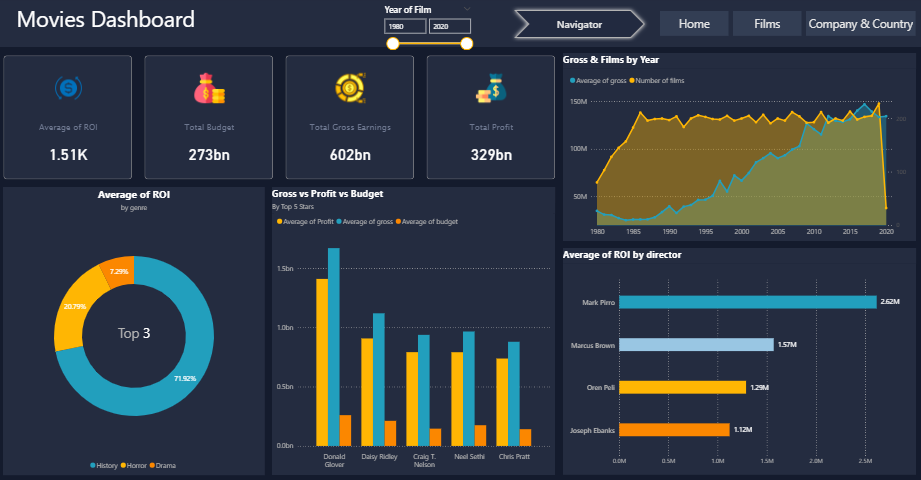

The page's visual inventory and layout, read from the dashboard file:
{"tool":"powerbi","page":{"name":"Home","canvas":[1820,950],"ordinal":0},"visuals":[{"type":"shape","box":[0,0,1819.2,92.6],"z":0},{"type":"shape","title":"Gross vs Profit vs Budget","box":[540,368.6,557.8,567.6],"z":1000},{"type":"shape","title":"Gross & Films by Year","box":[1113.6,104.5,695.7,370.5],"z":2000},{"type":"shape","title":"Average of ROI by director","box":[1113.6,488.8,695.7,447.4],"z":3000},{"type":"donutChart","fields":{"Category":["movies1.genre"],"Y":["movies1.ROI"]},"box":[9.9,368.6,516.4,567.6],"z":4000},{"type":"barChart","fields":{"Category":["movies1.director"],"Y":["movies1.ROI"]},"box":[1121.5,536.1,676,390.2],"z":5000},{"type":"areaChart","fields":{"Category":["movies1.released_date.Variation.Date Hierarchy.Year"],"Y":["movies1.gross"],"Y2":["movies1.name"]},"box":[1121.5,138,676,337],"z":6000},{"type":"textbox","box":[222.7,632.7,90.7,49.3],"z":7000},{"type":"clusteredColumnChart","title":"Avg of gross & Avg of Profit & Avg of budget by star","fields":{"Category":["movies1.star"],"Y":["movies1.Profit","movies1.gross","movies1.budget"]},"box":[544,415.9,549.9,516.4],"z":8000},{"type":"textbox","box":[31.5,2,376.5,90.7],"z":9000},{"type":"pageNavigator","box":[1304.8,21.7,136,49.3],"z":10000},{"type":"pageNavigator","box":[1448.7,21.7,136,49.3],"z":11000},{"type":"pageNavigator","box":[1592.5,21.7,216.8,49.3],"z":12000},{"type":"slicer","fields":{"Values":["movies1.year_corrected"]},"box":[749,2,195.1,151.8],"z":13000},{"type":"cardVisual","fields":{"Data":["movies1.ROI","movies1.budget","movies1.gross","movies1.Profit"]},"box":[5.9,104.5,1097.8,254.3],"z":14000},{"type":"shape","box":[1009.1,11.8,274,71],"z":15000}]}

Visuals, with their boxes in screenshot pixels (x1, y1, x2, y2), scaled from the page's 1820x950 canvas onto the 921x480 screenshot:
shape: 0, 0, 920, 47
"Gross vs Profit vs Budget" shape: 273, 186, 556, 473
"Gross & Films by Year" shape: 564, 53, 916, 240
"Average of ROI by director" shape: 564, 247, 916, 473
donutChart - movies1.genre x movies1.ROI: 5, 186, 266, 473
barChart - movies1.director x movies1.ROI: 568, 271, 910, 468
areaChart - movies1.released_date.Variation.Date Hierarchy.Year x movies1.gross: 568, 70, 910, 240
textbox: 113, 320, 159, 345
"Avg of gross & Avg of Profit & Avg of budget by star" clusteredColumnChart: 275, 210, 554, 471
textbox: 16, 1, 206, 47
pageNavigator: 660, 11, 729, 36
pageNavigator: 733, 11, 802, 36
pageNavigator: 806, 11, 916, 36
slicer - movies1.year_corrected: 379, 1, 478, 78
cardVisual - movies1.ROI x movies1.budget: 3, 53, 559, 181
shape: 511, 6, 649, 42
